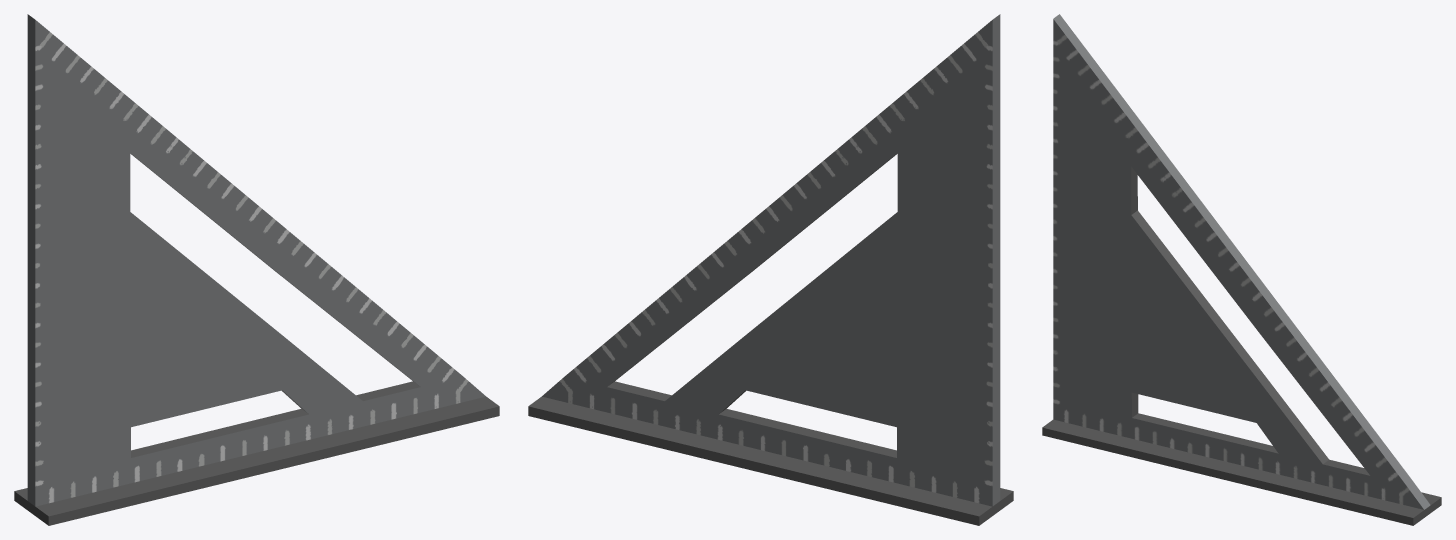
The model's file is triangle_ruler.fbx.
3 views of the same model, side by side, from view 1: azimuth 30°, elevation 25°; view 2: azimuth 150°, elevation 25°; view 3: azimuth 330°, elevation 25° (orthographic). The views are drawn at different scales.
Parts seen in each view (by area): view 1: triangle_ruler; view 2: triangle_ruler; view 3: triangle_ruler.
Part boxes in pixels (x1,y1,x2,y2): triangle_ruler: (14,14,499,525); triangle_ruler: (528,14,1013,525); triangle_ruler: (1042,14,1441,525).
Size of the model in its own units: 7.6 by 7.99 by 1.01.
